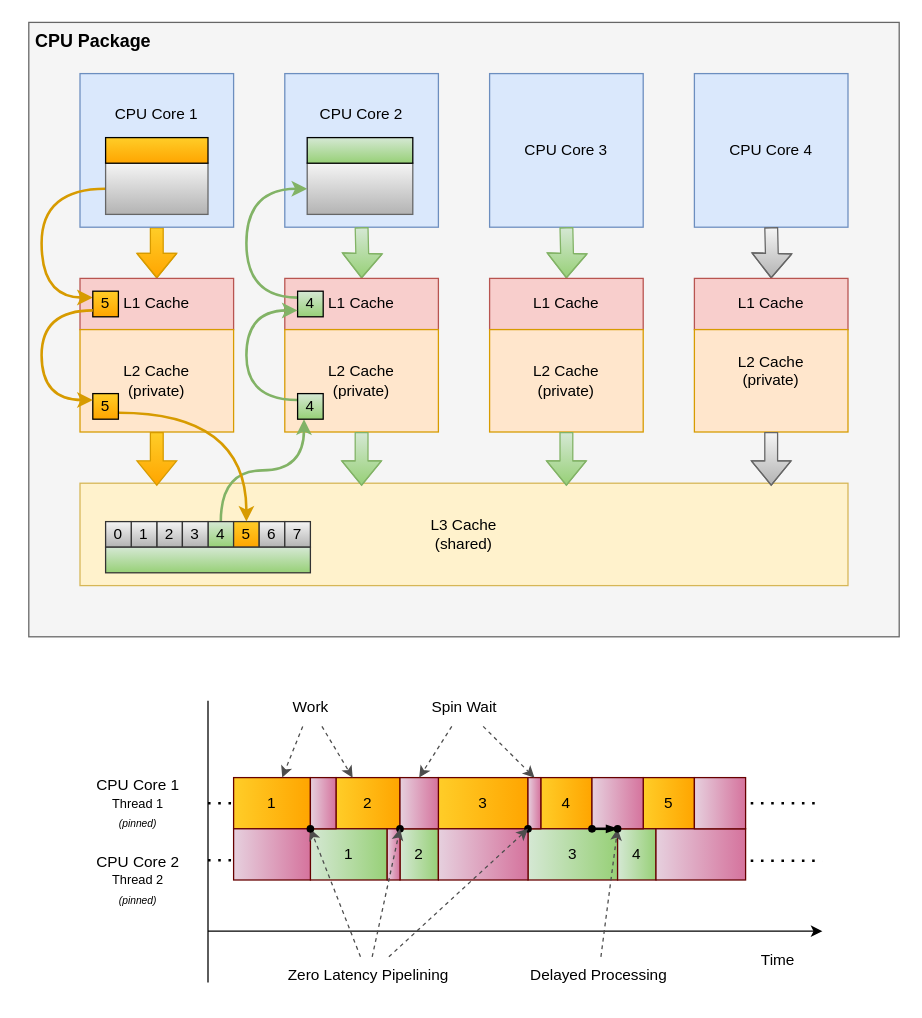
The diagram is 922 pixels wide and 1018 high, and some of its shapes have lost their labels. The centre of each missing label's shape, as x and y in pixels:
"Analyse" goes at pixel 359 188.
"Analysis" goes at pixel 359 149.
"Market Data" goes at pixel 156 149.
"Receive Parse Notify" goes at pixel 156 188.
"Ring-Buffer" goes at pixel 207 559.
